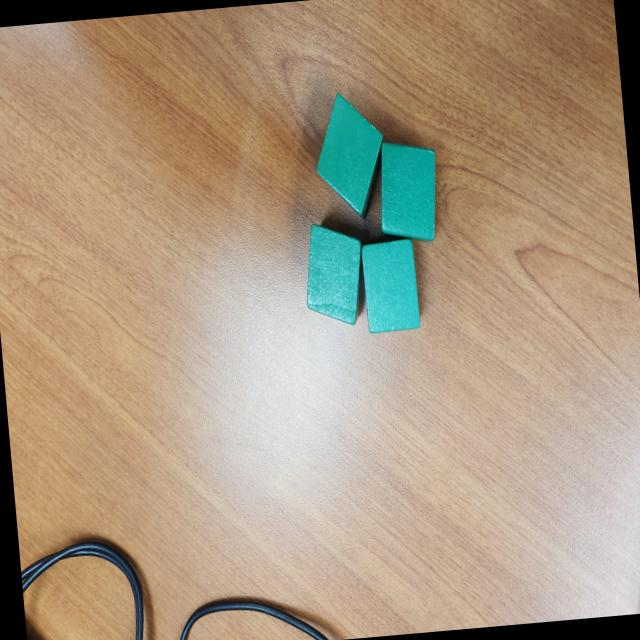green: (307, 88, 391, 226), (297, 218, 372, 329), (374, 137, 444, 245), (358, 236, 422, 337)
